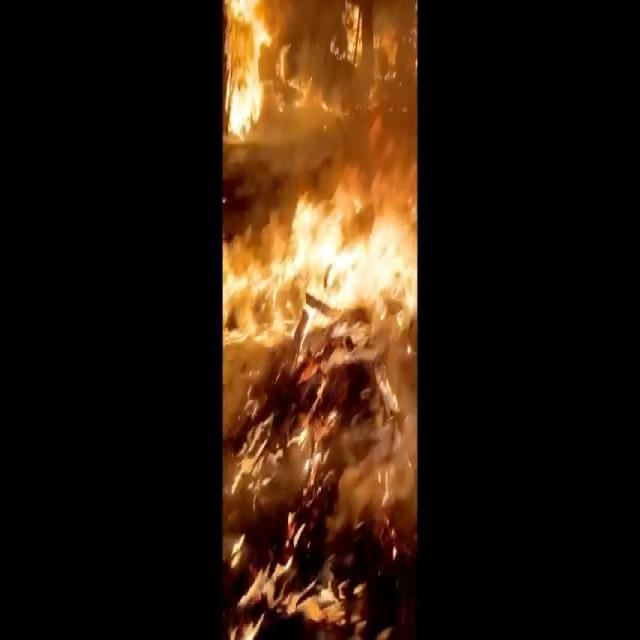Fire: (224, 0, 418, 638)
